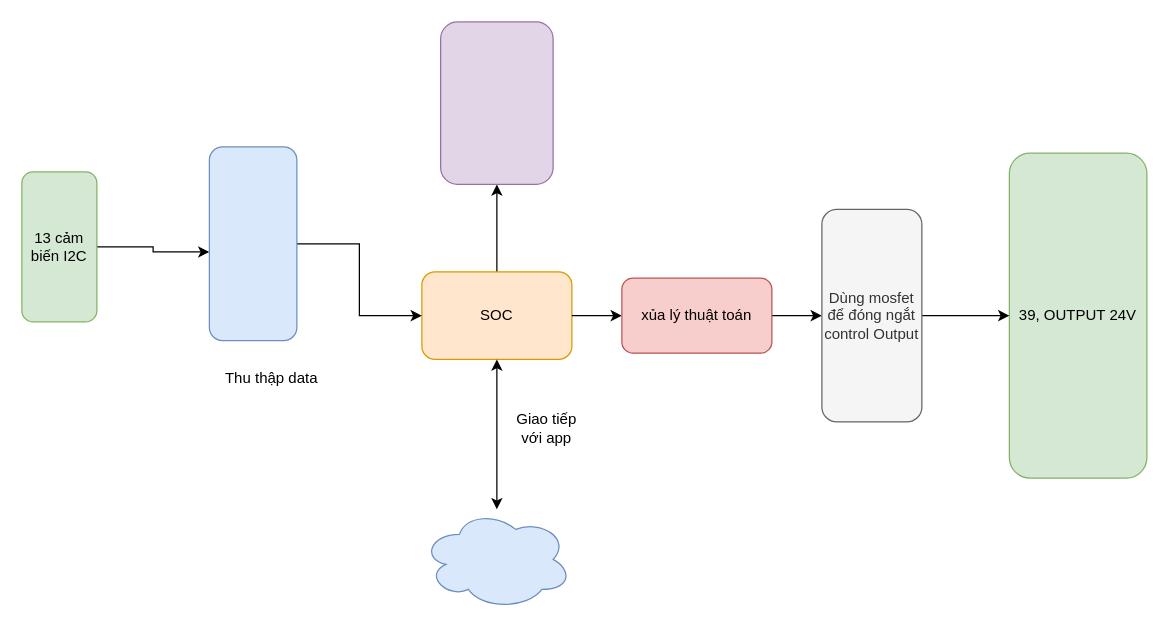
Image size: 1169x631. Some labels were removed from this diagram. The centre of each missing label's shape, as x and y in pixels:
"Bộ mở rộng địa chỉ cảm biến" goes at [252,243].
"HIện thị lên màn hình" goes at [496,102].
"ứng dụng" goes at [496,558].
